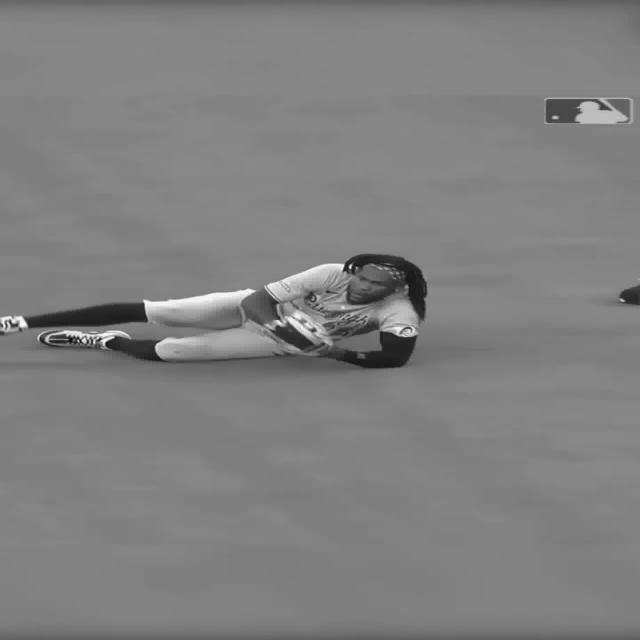baseball_glove: (258, 309, 328, 361)
shoe: (34, 329, 134, 355), (0, 318, 22, 338)
